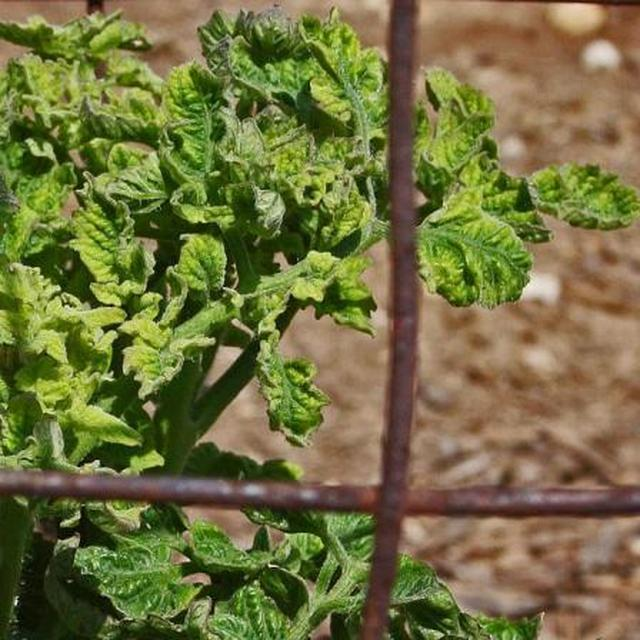Yellow Leaf Curl Virus: (104, 102, 640, 564)
